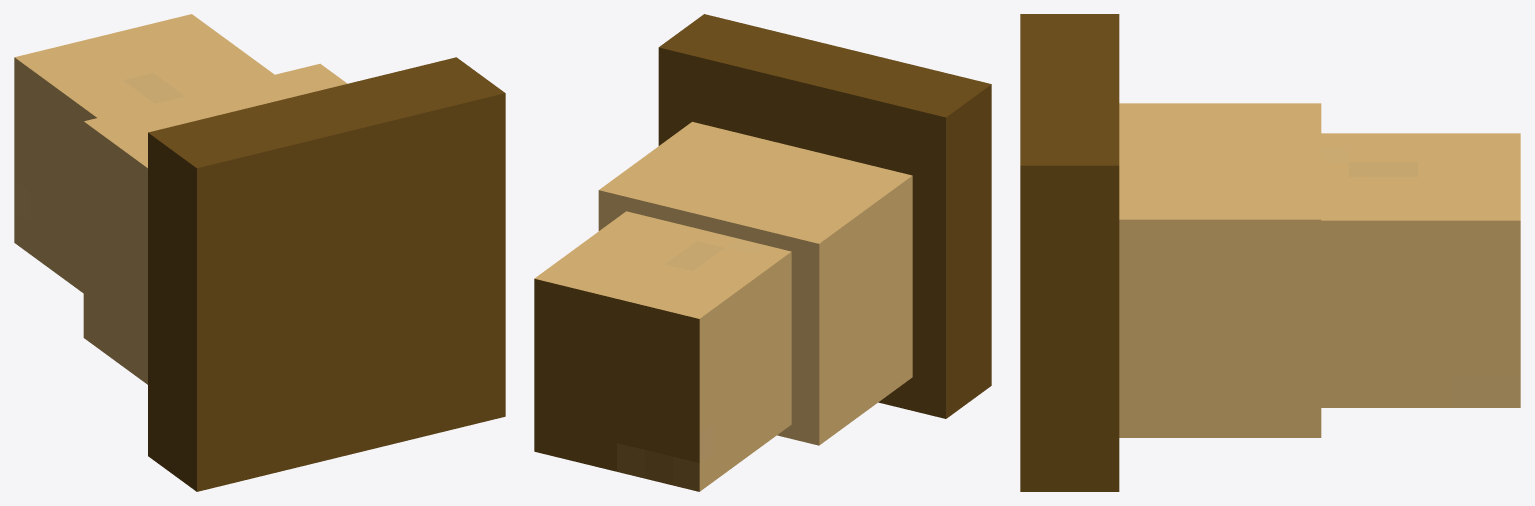
File: Body.obj
The picture shows the model from 3 angles, left to right: view 1: azimuth 30°, elevation 25°; view 2: azimuth 150°, elevation 25°; view 3: azimuth 270°, elevation 25°; orthographic projection. The views are drawn at different scales.
Parts seen in each view (by area): view 1: pCube9, pCube5, pasted__pCube9 group13; view 2: pCube5, pCube9, pasted__pCube9 group13; view 3: pasted__pCube9 group13, pCube5, pCube9.
Boxes of the visible parts, x1=… form: pCube9: x1=148, y1=57, x2=505, y2=491; pCube5: x1=14, y1=14, x2=274, y2=293; pasted__pCube9 group13: x1=83, y1=63, x2=347, y2=384; pCube5: x1=534, y1=211, x2=791, y2=491; pCube9: x1=658, y1=14, x2=991, y2=418; pasted__pCube9 group13: x1=598, y1=122, x2=912, y2=445; pasted__pCube9 group13: x1=1119, y1=103, x2=1321, y2=437; pCube5: x1=1321, y1=133, x2=1520, y2=407; pCube9: x1=1020, y1=14, x2=1119, y2=491.
Bounding box in the file's own units: 0.6522 × 0.6537 × 0.9082.
1 material, 1 textured.
